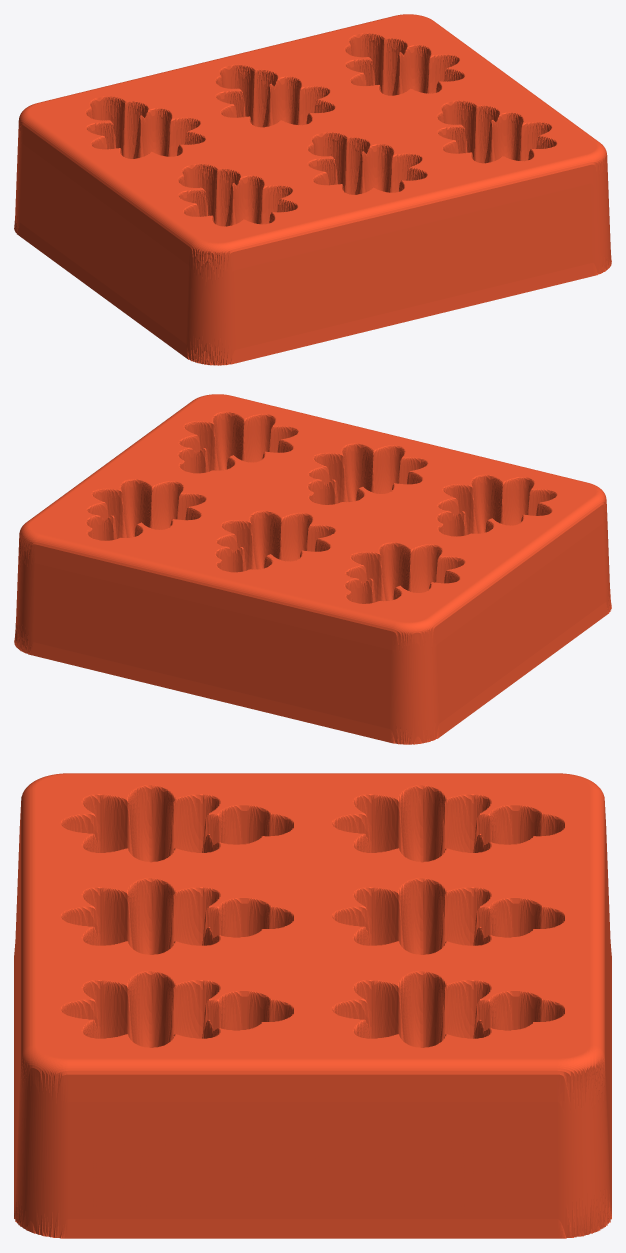
Rendered from mold.glb.
3 views of the same model, one above another, from view 1: azimuth 30°, elevation 25°; view 2: azimuth 150°, elevation 25°; view 3: azimuth 270°, elevation 25° (orthographic). The views are drawn at different scales.
Visible parts, largest first — view 1: geometry_0; view 2: geometry_0; view 3: geometry_0.
Boxes of the visible parts, left/top/right/bottom form: geometry_0: left=14, top=14, right=611, bottom=365; geometry_0: left=14, top=394, right=611, bottom=744; geometry_0: left=14, top=773, right=611, bottom=1238.
Bounding box in the file's own units: 0.1191 × 0.0314 × 0.0996.
